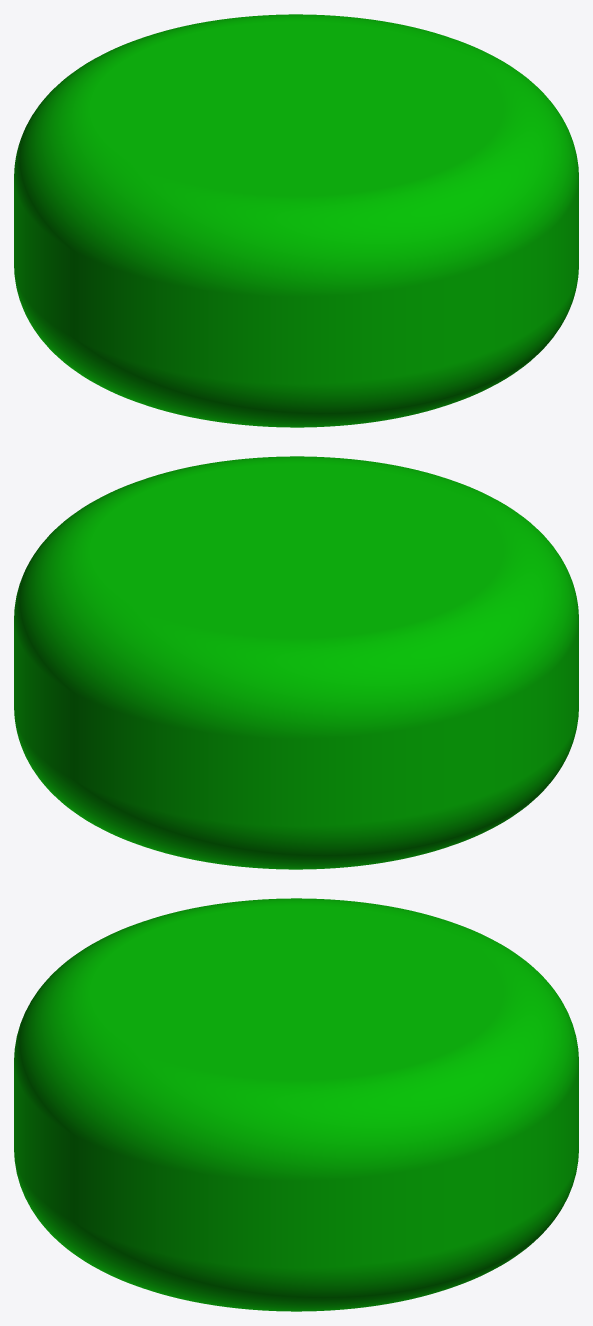
The model's file is OUTFITTING_INTERIOR__EXT. INSTRUMENTS__AFT STBD MAST__Simrad HALO20+ Radar.glb.
3 renders of one model, top to bottom at view 1: azimuth 30°, elevation 25°; view 2: azimuth 150°, elevation 25°; view 3: azimuth 270°, elevation 25°, orthographic.
Parts seen in each view (by area): view 1: Simrad HALO20+ Radar; view 2: Simrad HALO20+ Radar; view 3: Simrad HALO20+ Radar.
Part boxes in pixels (x1,y1,x2,y2): Simrad HALO20+ Radar: (14,14,578,427); Simrad HALO20+ Radar: (14,456,578,869); Simrad HALO20+ Radar: (14,898,578,1311).
Bounding box in the file's own units: 0.51 × 0.2235 × 0.51.
